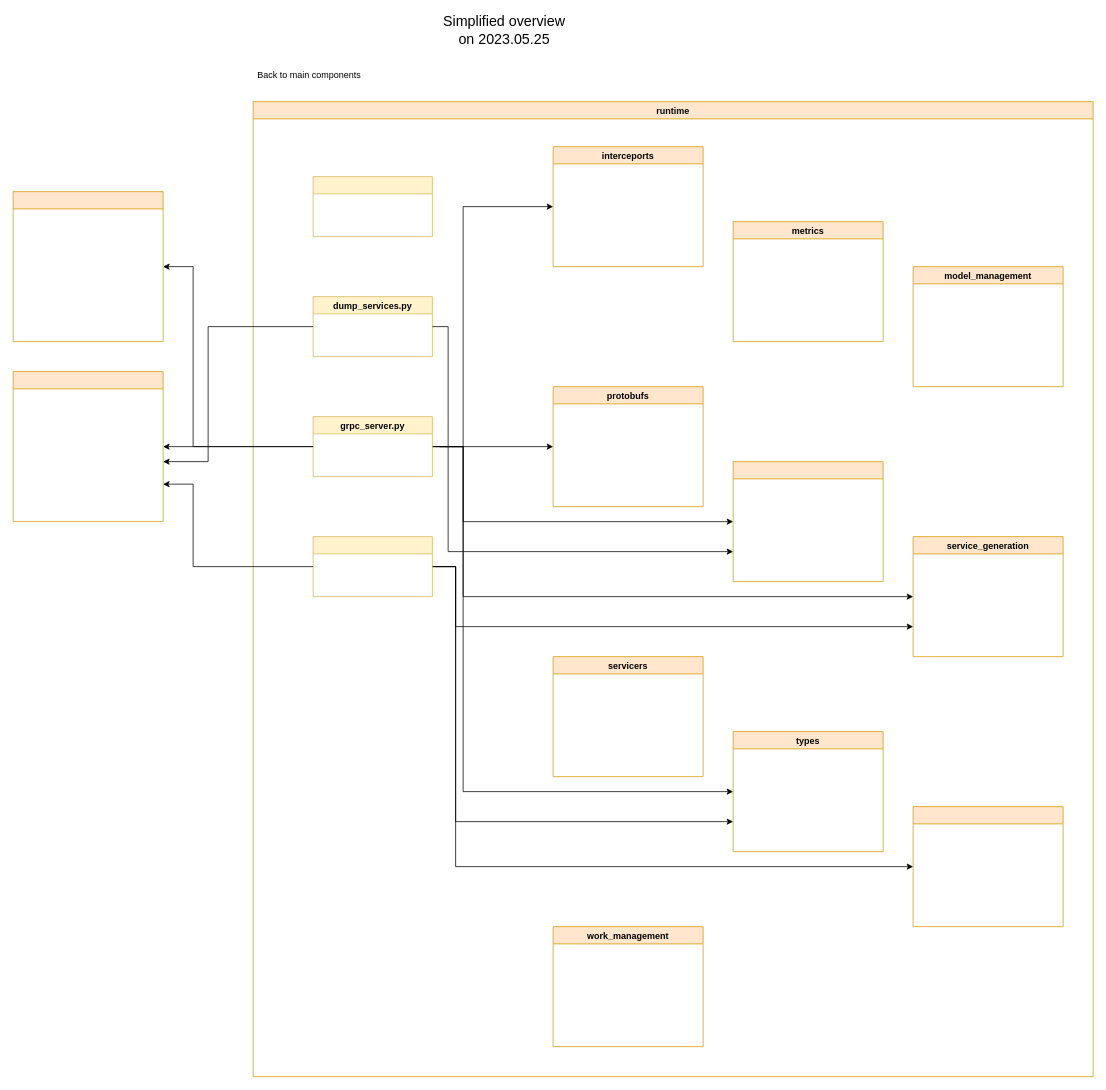
This 1106x1090 diagram has some shape labels left out. The shapes that lost their labels are listed below. From the top down, each one's centre as x and y in pixels, then its label:
At [372,206]: "__init__.py".
At [87,266]: "config".
At [87,446]: "core".
At [807,521]: "service_factory".
At [372,566]: "service_factory.py".
At [987,866]: "utils".
